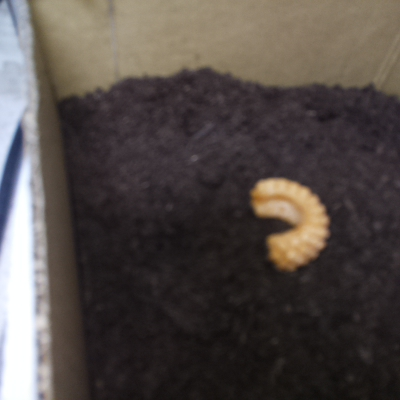eggs: (245, 174, 333, 274)
